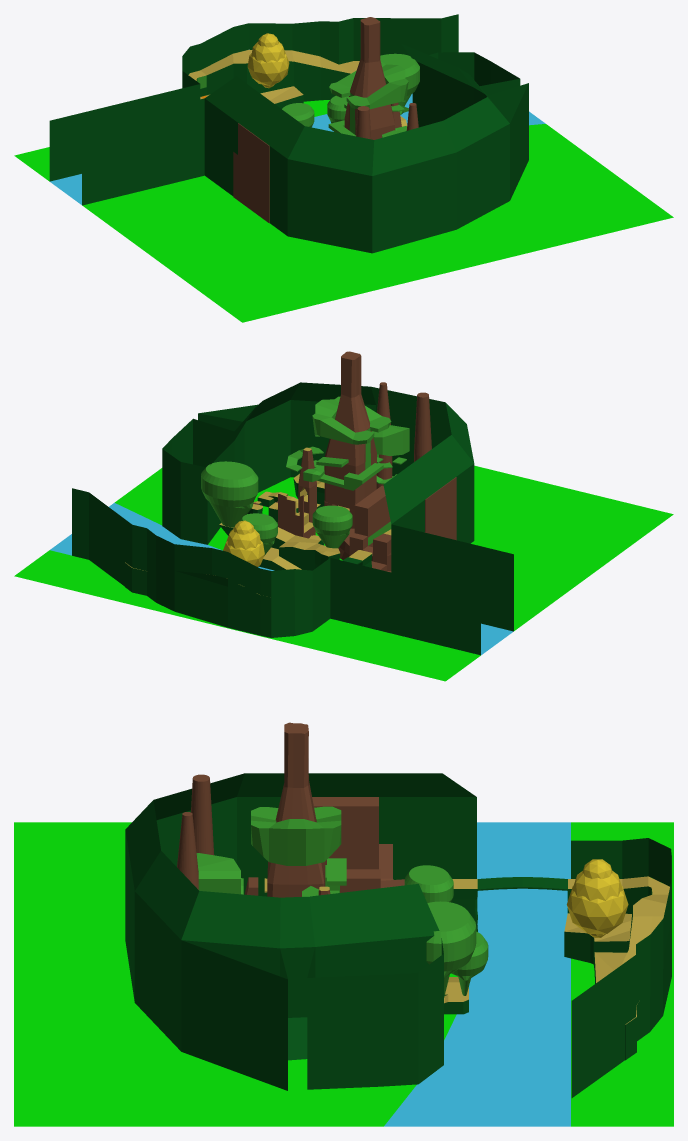
File: woodsLatest.glb
The picture shows the model from 3 angles, top to bottom: view 1: azimuth 30°, elevation 25°; view 2: azimuth 150°, elevation 25°; view 3: azimuth 270°, elevation 25°; orthographic projection. The views are drawn at different scales.
Parts seen in each view (by area): view 1: Plane-col.002, Plane-col, Cube.030-col.002, Cube.030-col.001, Cube.011-col, Cube.009-col, Cube.047-col, Icosphere-col, Plane.001, Plane-col.003, Cylinder, Cylinder.001; view 2: Plane-col.002, Cube.030-col.002, Plane-col, Plane-col.003, Cube.030-col.001, Cube.011-col, Cube.009-col, Cylinder, Cube.022-col, Cube.047-col, Plane.001, Cylinder.001 (+8 smaller); view 3: Plane-col.002, Plane-col, Plane.001, Cube.030-col.002, Plane-col.003, Cube.030-col.001, Cube.011-col, Cube.009-col, Cube.047-col, Icosphere-col, Cylinder, Cube.002-col.001 (+7 smaller).
Boxes of the visible parts, left/top/right/bottom form: Plane-col.002: left=82, top=44, right=528, bottom=253; Plane-col: left=82, top=124, right=673, bottom=322; Cube.030-col.002: left=49, top=14, right=458, bottom=181; Cube.030-col.001: left=182, top=50, right=359, bottom=108; Cube.011-col: left=344, top=17, right=395, bottom=139; Cube.009-col: left=233, top=123, right=269, bottom=223; Cube.047-col: left=329, top=62, right=408, bottom=109; Icosphere-col: left=247, top=33, right=289, bottom=88; Plane.001: left=50, top=93, right=545, bottom=204; Plane-col.003: left=14, top=100, right=329, bottom=181; Cylinder: left=380, top=53, right=419, bottom=106; Cylinder.001: left=282, top=103, right=314, bottom=127; Plane-col.002: left=162, top=382, right=513, bottom=631; Cube.030-col.002: left=72, top=488, right=480, bottom=655; Plane-col: left=114, top=465, right=673, bottom=630; Plane-col.003: left=14, top=550, right=480, bottom=681; Cube.030-col.001: left=124, top=562, right=323, bottom=637; Cube.011-col: left=324, top=351, right=376, bottom=509; Cube.009-col: left=349, top=477, right=456, bottom=570; Cylinder: left=201, top=461, right=258, bottom=527; Cube.022-col: left=259, top=527, right=340, bottom=570; Cube.047-col: left=312, top=396, right=391, bottom=444; Plane.001: left=50, top=503, right=513, bottom=655; Cylinder.001: left=312, top=505, right=352, bottom=548; Plane-col.002: left=125, top=773, right=476, bottom=1090; Plane-col: left=14, top=822, right=457, bottom=1126; Plane.001: left=384, top=822, right=570, bottom=1126; Cube.030-col.002: left=571, top=838, right=671, bottom=1097; Plane-col.003: left=571, top=822, right=673, bottom=1126; Cube.030-col.001: left=564, top=876, right=671, bottom=1060; Cube.011-col: left=267, top=722, right=325, bottom=897; Cube.009-col: left=312, top=797, right=393, bottom=892; Cube.047-col: left=251, top=806, right=341, bottom=865; Icosphere-col: left=566, top=859, right=628, bottom=937; Cylinder: left=426, top=901, right=476, bottom=997; Cube.002-col.001: left=196, top=853, right=240, bottom=894.
Bounding box in the file's own units: 883 × 344 × 809.
